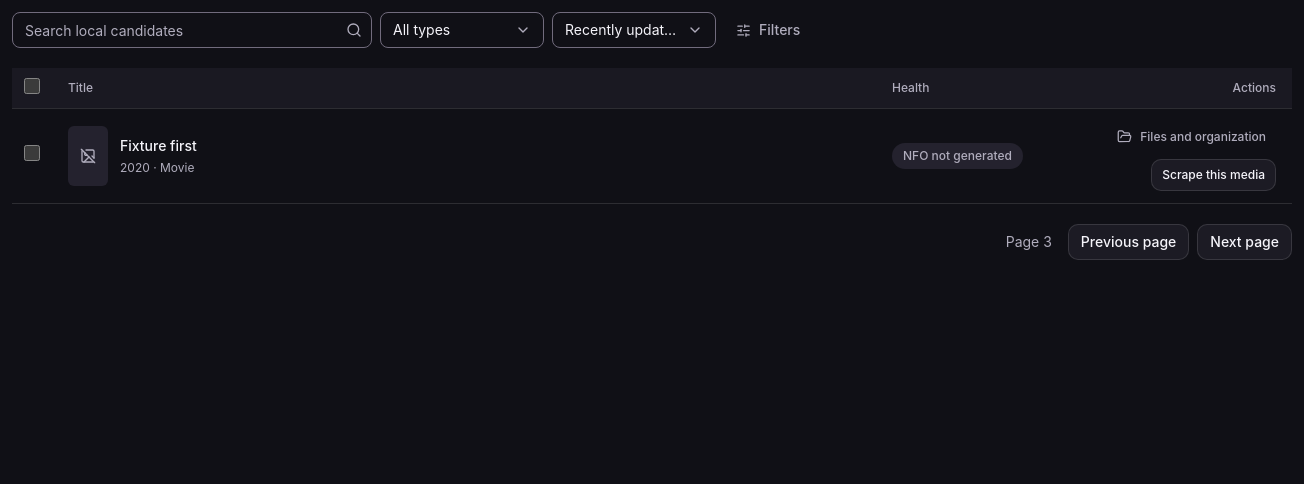
it: clears stale page and batch selection when the Health filter changes
Click the checkbox named "Select for scraping: Fixture first" at coordinates (32, 153), box [24,145,40,161]
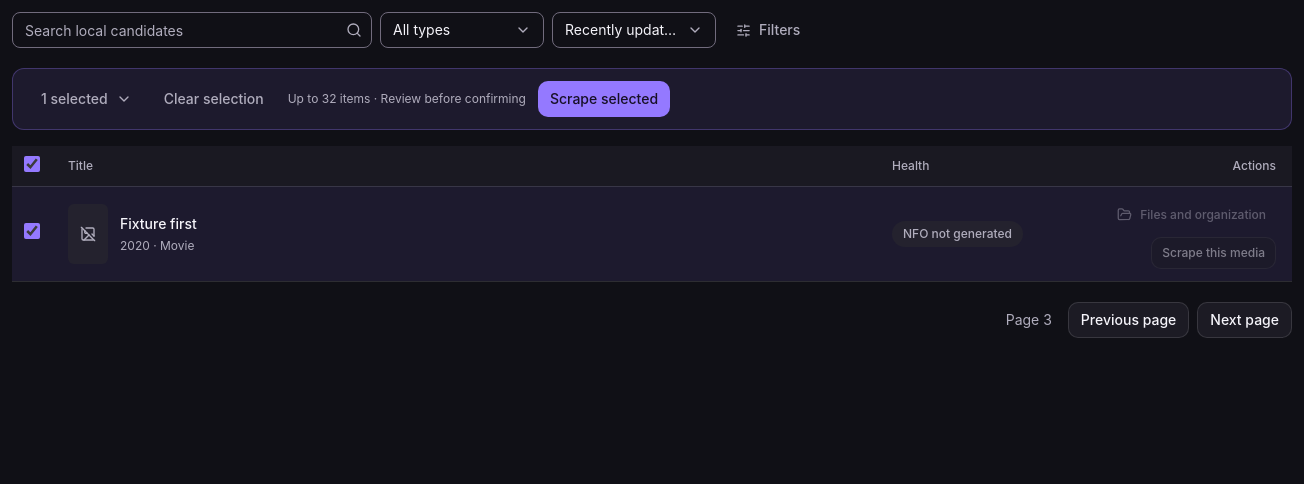
Click the button "Filters" at coordinates (768, 30), box [724,12,812,48]
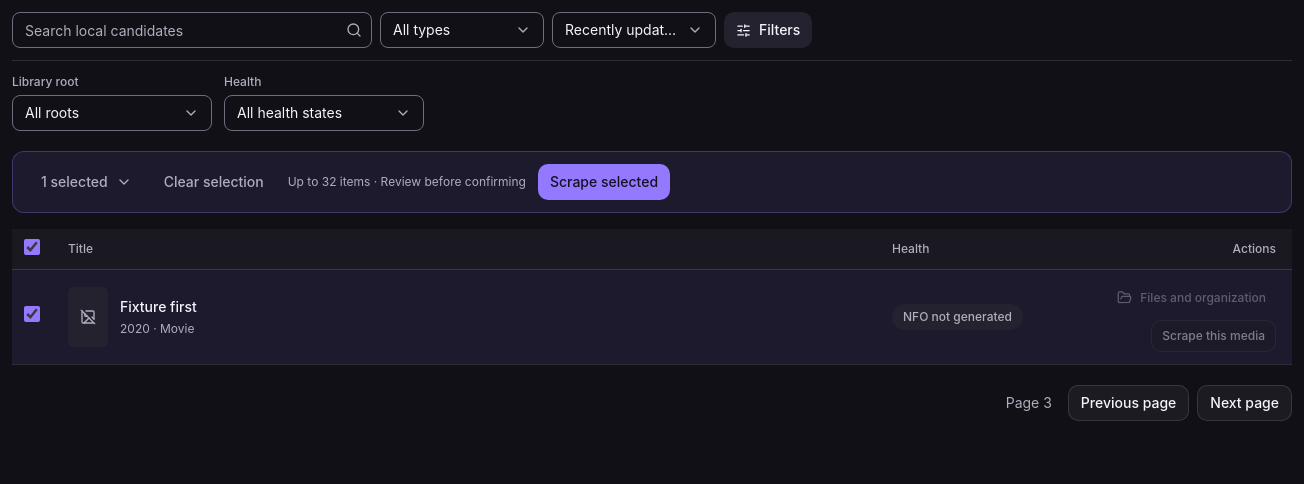
Click the dropdown labelled "health" at coordinates (324, 113), box [224,95,424,131]
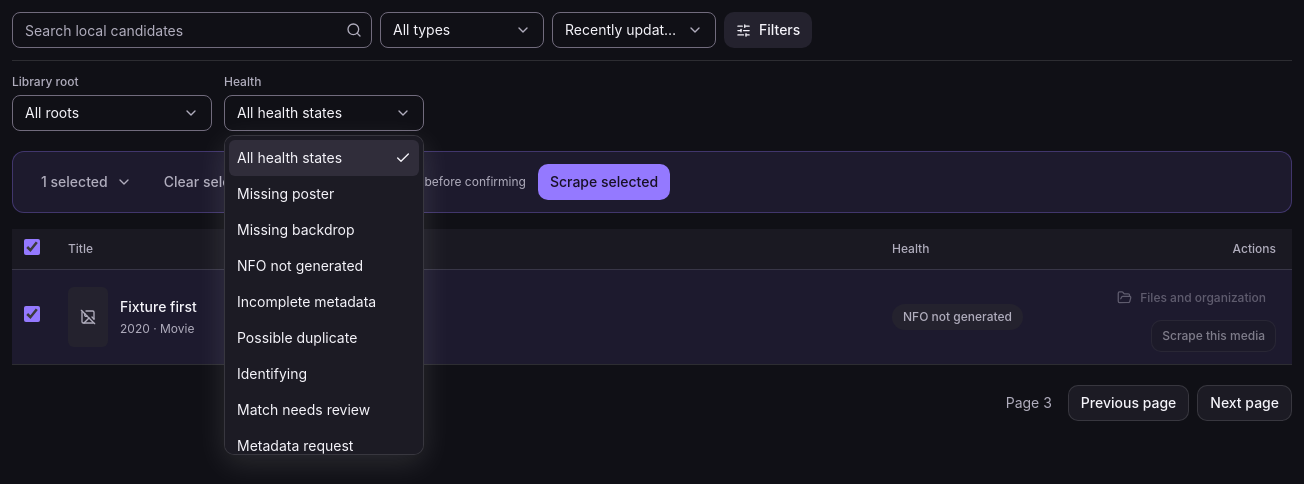
Click the option "Missing poster" at coordinates (324, 194), box [229,176,419,212]
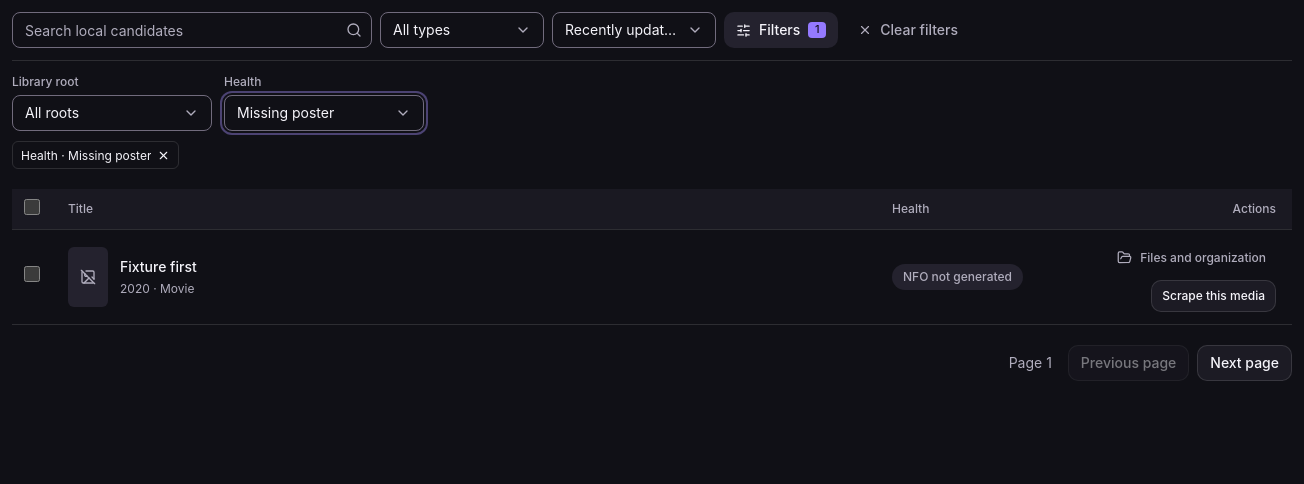
Result: the text "Page 1" is shown at [1009,353,1052,373]
Result: the button "Scrape selected" is gone
